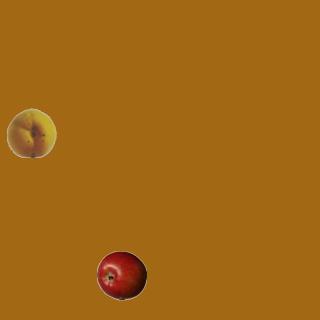Apple Braeburn: (96, 250, 146, 300)
Peach 2: (6, 107, 56, 157)
